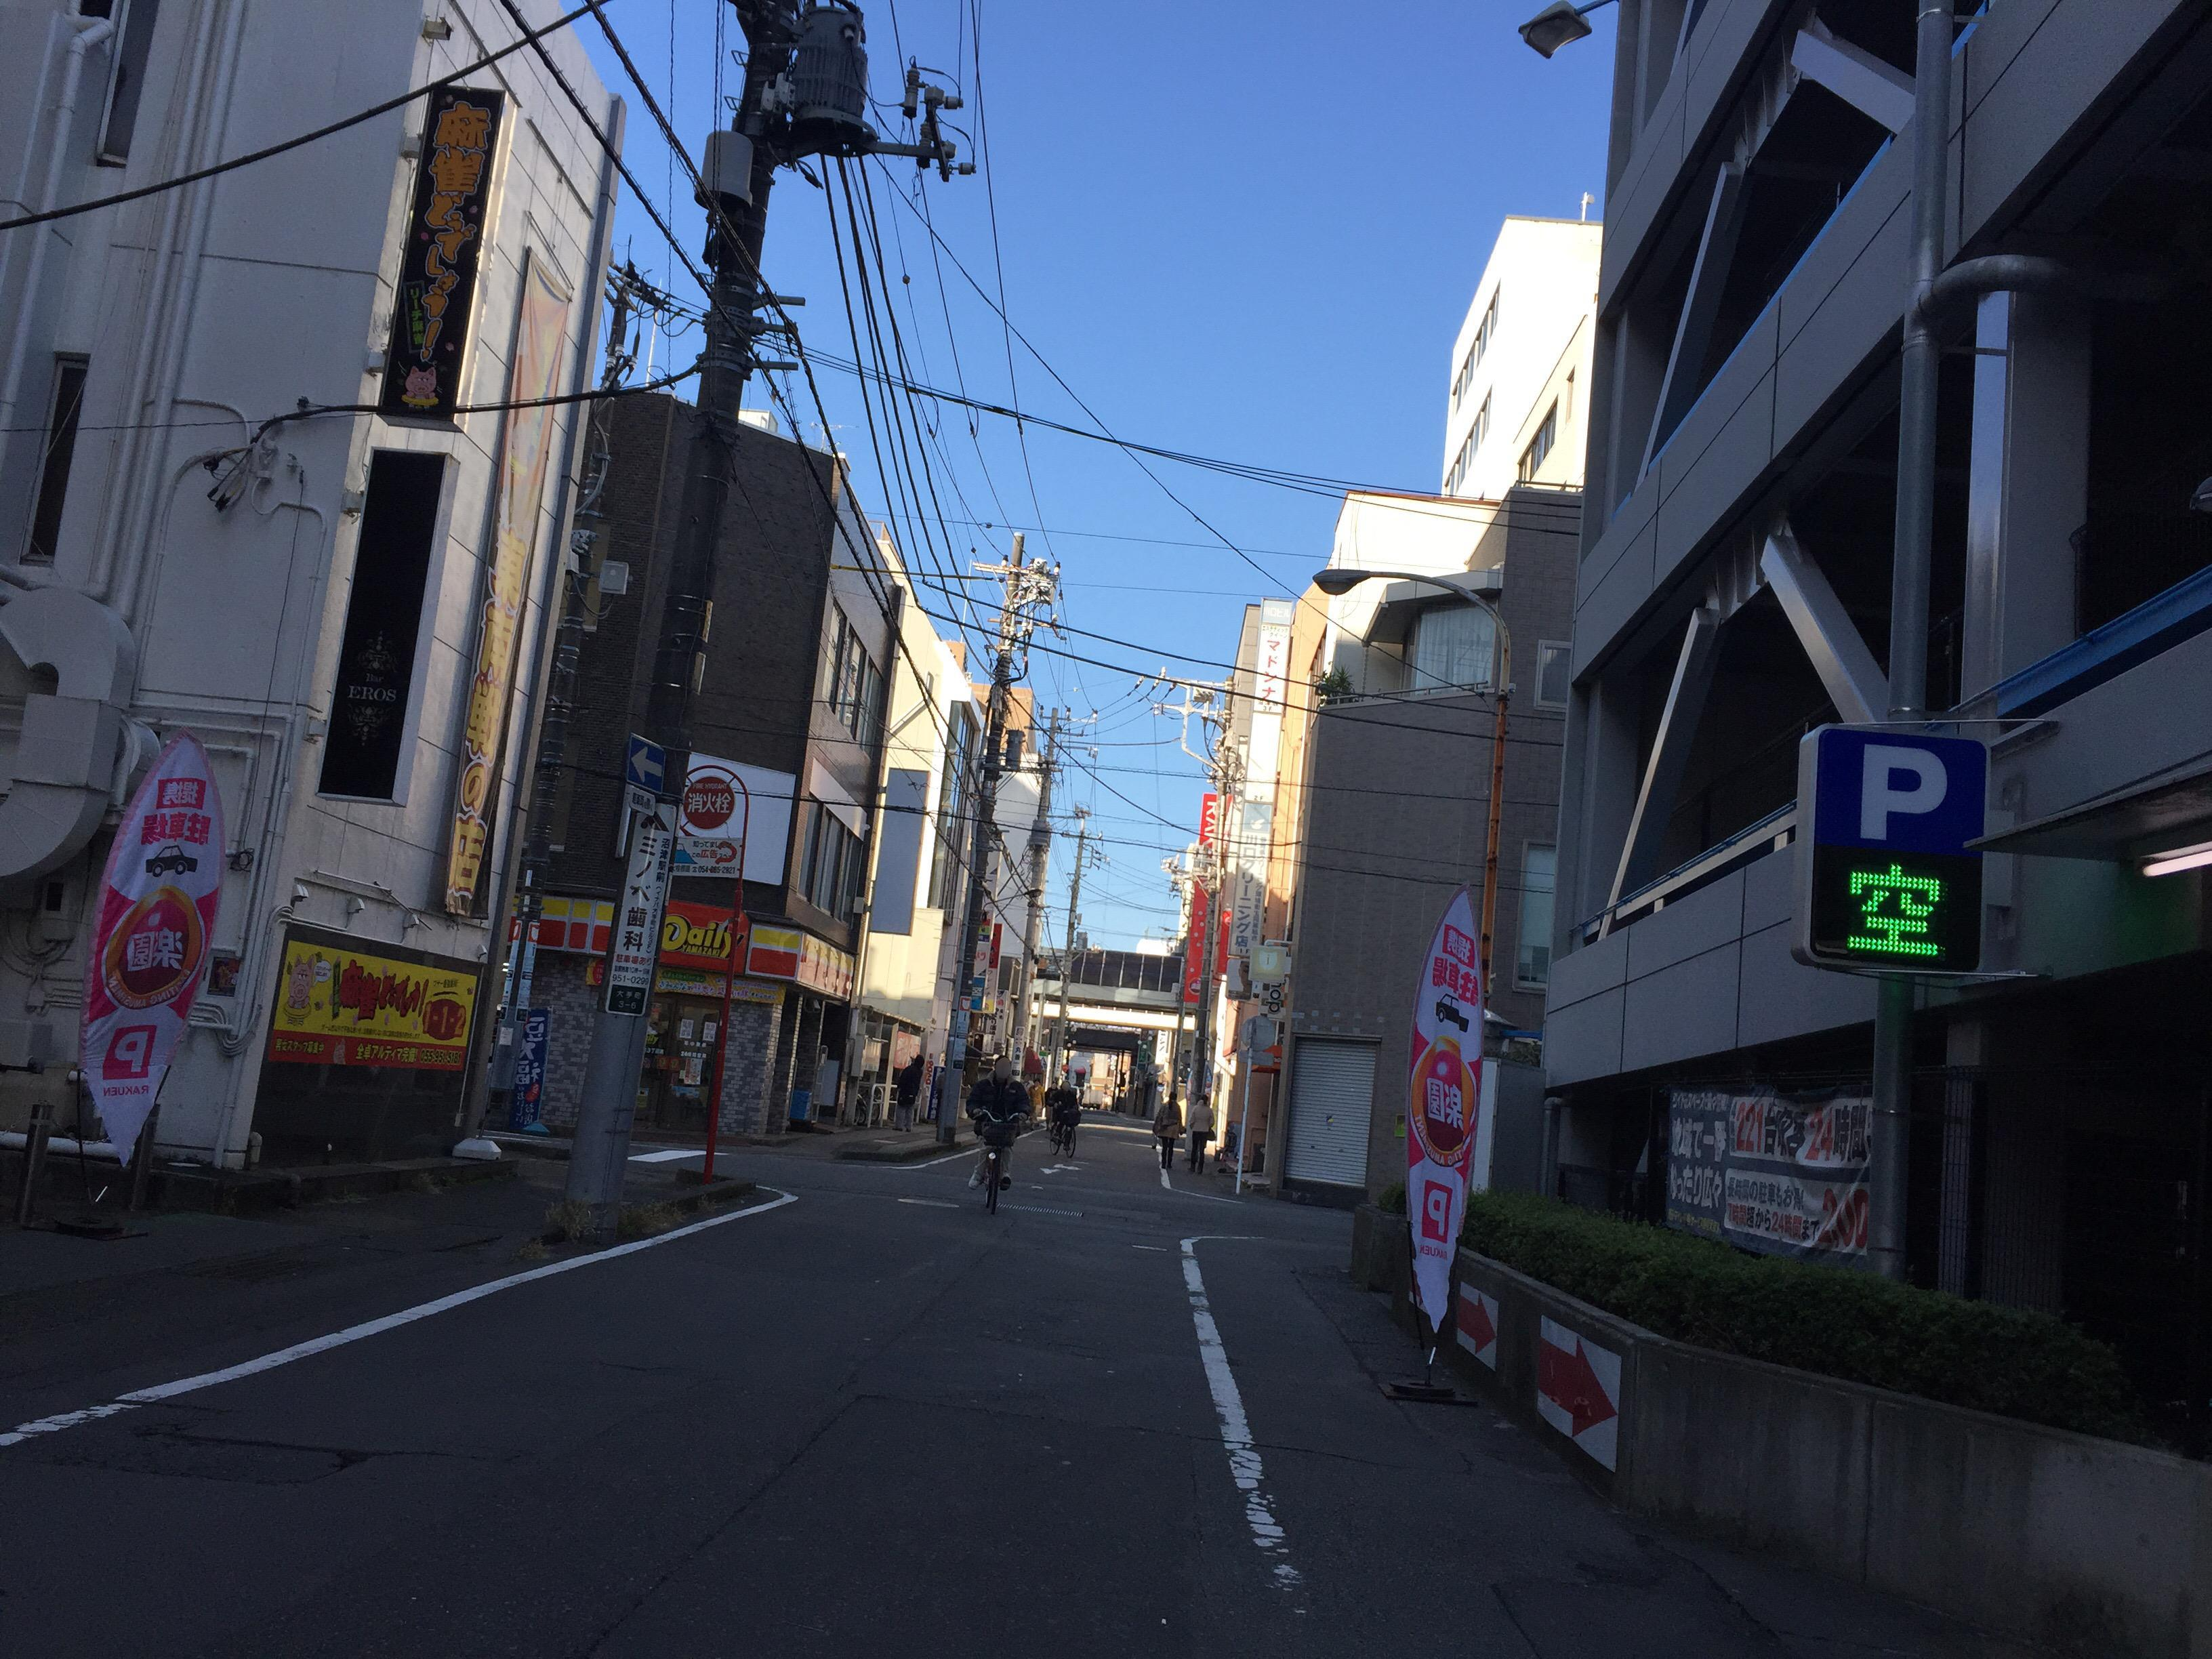vinyl banner: (449, 216, 575, 932), (1656, 1065, 1881, 1281)
